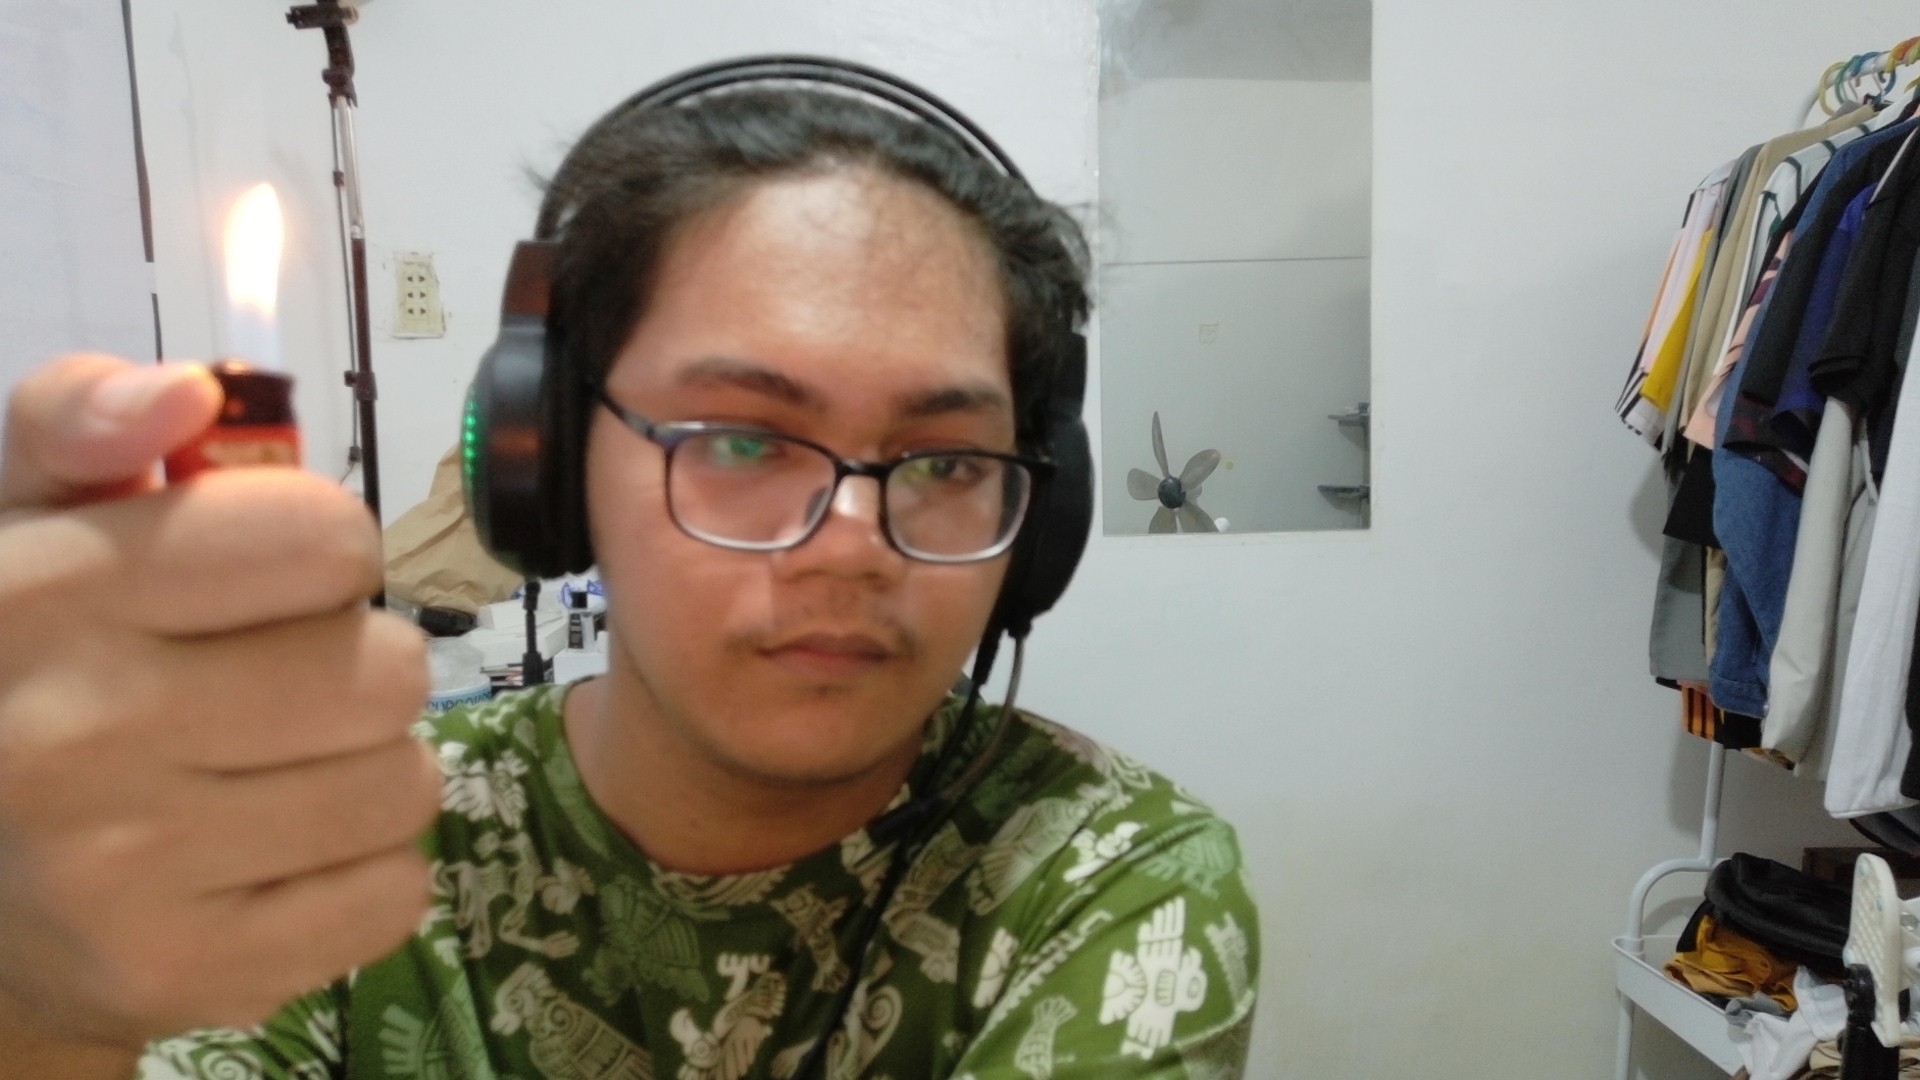fire: (184, 168, 309, 368)
